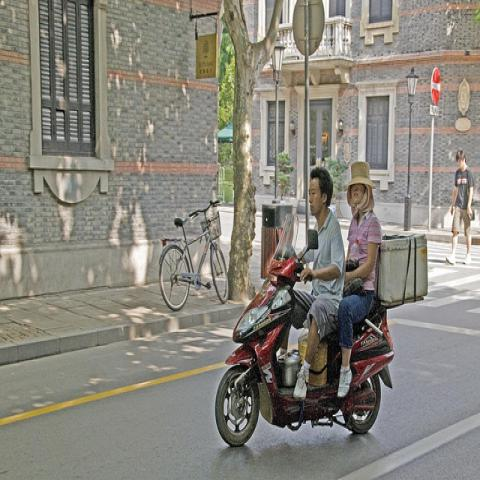motorcycle: (216, 213, 396, 444)
